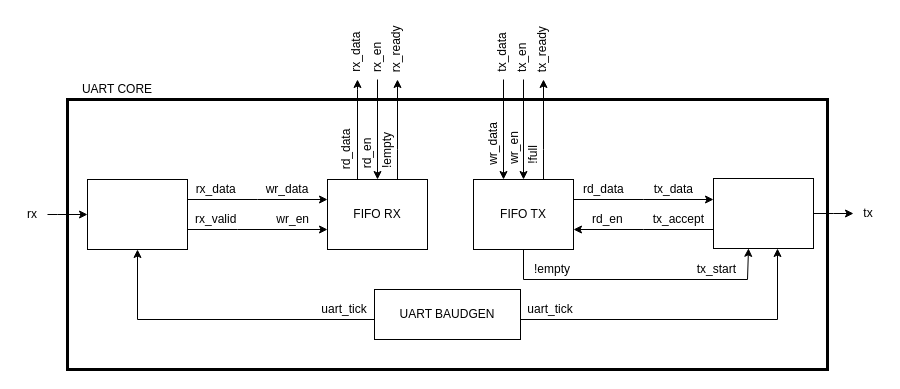
Image size: 900x389. Some labels were removed from this diagram. Here are the shapes that lost their labels. From the top down, the centre of each, then its label:
point (137, 214): UART RX
point (763, 213): UART TX
